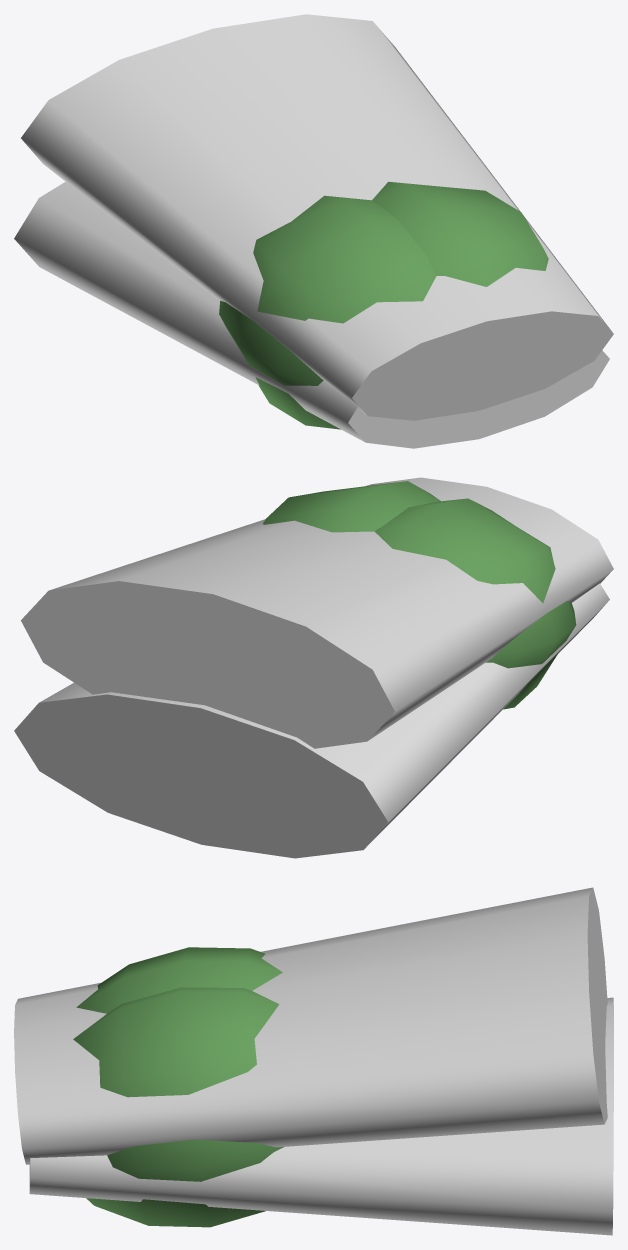
Rendered from skirt-decor-folded.glb.
The picture shows the model from 3 angles, top to bottom: view 1: azimuth 30°, elevation 25°; view 2: azimuth 150°, elevation 25°; view 3: azimuth 270°, elevation 25°; orthographic projection. The views are drawn at different scales.
Visible parts, largest first — view 1: Cylinder (×2), Sphere_4, Sphere; view 2: Cylinder (×2), Sphere_4, Sphere; view 3: Cylinder (×2), Sphere, Sphere_4.
Boxes of the visible parts, box(x1,y1,x2,y2) form: Cylinder (×2): box(14, 14, 613, 448); Sphere_4: box(219, 195, 436, 429); Sphere: box(372, 181, 548, 286); Cylinder (×2): box(14, 477, 613, 858); Sphere_4: box(375, 498, 576, 709); Sphere: box(263, 481, 440, 532); Cylinder (×2): box(14, 887, 613, 1235); Sphere: box(73, 987, 283, 1227); Sphere_4: box(76, 947, 282, 1013).
Size of the model in its own units: 0.7776 by 0.5026 by 1.03.
